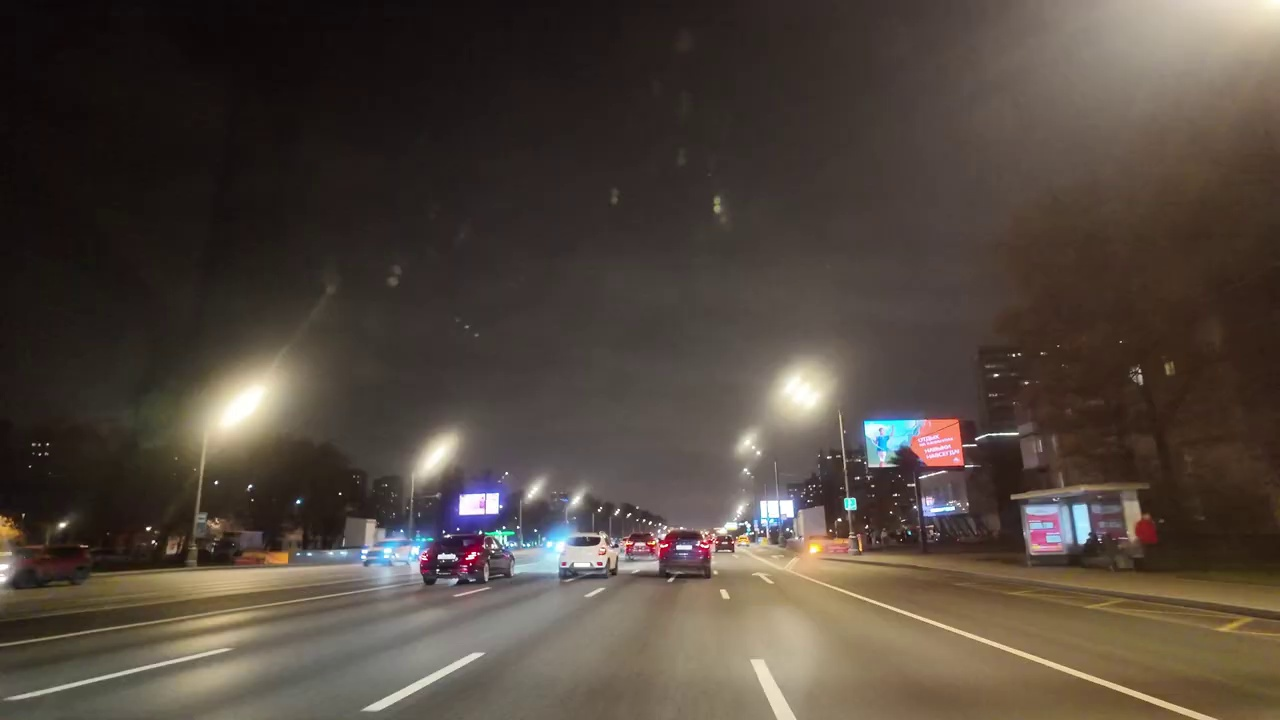acesa: (210, 375, 277, 439), (773, 364, 829, 422), (411, 431, 461, 485)
